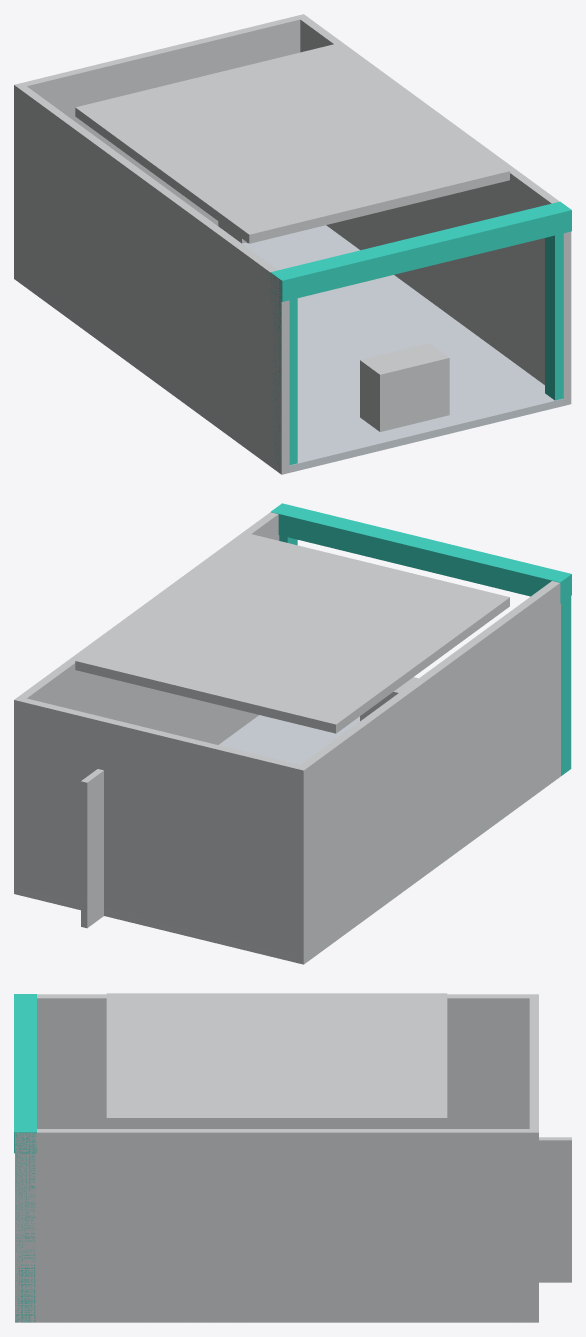
3 views of the same model, one above another, from view 1: azimuth 30°, elevation 25°; view 2: azimuth 150°, elevation 25°; view 3: azimuth 270°, elevation 25° (orthographic). The views are drawn at different scales.
Parts seen in each view (by area): view 1: Exhibition Booth Concept; view 2: Exhibition Booth Concept; view 3: Exhibition Booth Concept.
Boxes of the visible parts, box(x1,y1,x2,y2) form: Exhibition Booth Concept: box(14, 14, 571, 474); Exhibition Booth Concept: box(14, 503, 571, 964); Exhibition Booth Concept: box(14, 993, 571, 1322).
Bounding box in the file's own units: 5 × 3.34 × 8.52.
